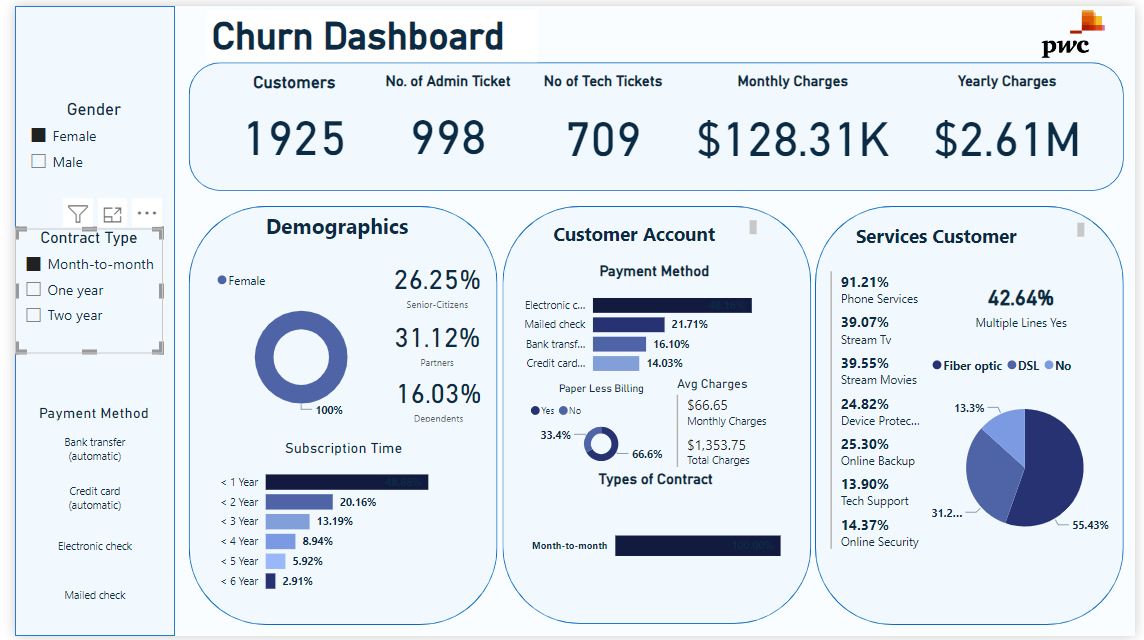

This screenshot's page, from the dashboard's own definition file:
{"tool":"powerbi","page":{"name":"Churn_Dashboard","canvas":[1280,720],"ordinal":2},"visuals":[{"type":"shape","box":[199.1,228.1,352.8,478.8],"z":0},{"type":"shape","box":[198.6,64.3,1068.6,147.1],"z":1000},{"type":"shape","box":[914.8,228.1,352.8,478.8],"z":2000},{"type":"shape","box":[0,0,182.9,720],"z":3000},{"type":"textbox","box":[220,4.3,377.1,60],"z":4000},{"type":"image","box":[1161.4,0,95.7,64.3],"z":5000},{"type":"card","title":"Customers","fields":{"Values":["CountNonNull(Churn.Customer_ID)"]},"box":[241.4,75.7,155.7,121.4],"z":6000},{"type":"card","title":"No. of Admin Ticket","fields":{"Values":["Sum(Churn.numAdminTickets)"]},"box":[417.6,75.7,155.7,121.4],"z":7000},{"type":"card","title":"No of Tech Tickets","fields":{"Values":["Sum(Churn.numTechTickets)"]},"box":[593.8,75.7,155.7,121.4],"z":8000},{"type":"card","title":"Monthly Charges","fields":{"Values":["Sum(Churn.MonthlyCharges)"]},"box":[770,75.6,237.8,121.1],"z":9000},{"type":"card","title":"Yearly Charges","fields":{"Values":["Sum(Churn.TotalCharges)"]},"box":[1028.2,75.6,210.4,121],"z":10000},{"type":"slicer","title":"Gender","fields":{"Values":["Churn.gender"]},"box":[6.3,107.1,168.9,89.5],"z":11000},{"type":"slicer","title":"Contract Type","fields":{"Values":["Churn.Contract"]},"box":[0,253.9,168.9,143.7],"z":12000},{"type":"slicer","title":"Payment Method","fields":{"Values":["Churn.PaymentMethod"]},"box":[6.3,454.9,168.9,250.8],"z":13000},{"type":"shape","box":[557,228.1,352.8,477.6],"z":14000},{"type":"donutChart","fields":{"Category":["Churn.gender"],"Y":["CountNonNull(Churn.gender)"]},"box":[225.6,292.5,203.1,187.5],"z":15000},{"type":"textbox","box":[281.4,230,187.1,50],"z":16000},{"type":"clusteredBarChart","title":"Subscription Time","fields":{"Y":["CountNonNull(Churn.Churn)"],"Category":["Churn.Loyalty"]},"box":[225.6,494,299.9,186.5],"z":17000},{"type":"card","fields":{"Values":["KPI_Churn.Senior-Citizens"]},"box":[423.1,282.5,120,68.8],"z":18000},{"type":"card","fields":{"Values":["KPI_Churn.Partners"]},"box":[423.1,349.4,120,66.9],"z":19000},{"type":"card","fields":{"Values":["KPI_Churn.Dependents"]},"box":[424.4,414.4,120,65.6],"z":20000},{"type":"textbox","box":[610,240,242.9,40],"z":21000},{"type":"clusteredBarChart","title":"Payment Method","fields":{"Category":["Churn.PaymentMethod"],"Y":["CountNonNull(Churn.PaymentMethod)"]},"box":[566,293,330,139],"z":22000},{"type":"donutChart","title":"Paper Less Billing","fields":{"Category":["Churn.PaperlessBilling"],"Y":["CountNonNull(Churn.PaperlessBilling)"]},"box":[584.1,430.6,171.8,100],"z":23000},{"type":"clusteredBarChart","title":"Types of Contract","fields":{"Category":["Churn.Contract"],"Y":["CountNonNull(Churn.Contract)"]},"box":[584.1,530.6,295.9,148.2],"z":24000},{"type":"multiRowCard","title":"Avg Charges","fields":{"Values":["Avg(Churn.MonthlyCharges)","Avg(Churn.TotalCharges)"]},"box":[751.1,423.3,144.4,112.2],"z":25000},{"type":"textbox","box":[955.7,242.9,271.4,40],"z":26000},{"type":"pieChart","fields":{"Category":["Churn.InternetService"],"Y":["CountNonNull(Churn.InternetService)"]},"box":[1043,390,223,246],"z":27000},{"type":"multiRowCard","fields":{"Values":["KPI_Churn.Phone Services","KPI_Churn.Stream Tv","KPI_Churn.Stream Movies","KPI_Churn.Device Protection","KPI_Churn.Online Backup","KPI_Churn.Tech Support","KPI_Churn.Online Security"]},"box":[927,298,116,338],"z":28000},{"type":"card","fields":{"Values":["KPI_Churn.Multiple Lines Yes"]},"box":[1043,298,214,85],"z":29000}]}

Visuals, with their boxes in screenshot pixels (x1, y1, x2, y2), scaled from the page's 1280x720 canvas onto the 1144x640 screenshot:
shape: [left=178, top=203, right=493, bottom=628]
shape: [left=177, top=57, right=1133, bottom=188]
shape: [left=818, top=203, right=1133, bottom=628]
shape: [left=0, top=0, right=163, bottom=639]
textbox: [left=197, top=4, right=534, bottom=57]
image: [left=1038, top=0, right=1124, bottom=57]
"Customers" card: [left=216, top=67, right=355, bottom=175]
"No. of Admin Ticket" card: [left=373, top=67, right=512, bottom=175]
"No of Tech Tickets" card: [left=531, top=67, right=670, bottom=175]
"Monthly Charges" card: [left=688, top=67, right=901, bottom=175]
"Yearly Charges" card: [left=919, top=67, right=1107, bottom=175]
"Gender" slicer: [left=6, top=95, right=157, bottom=175]
"Contract Type" slicer: [left=0, top=226, right=151, bottom=353]
"Payment Method" slicer: [left=6, top=404, right=157, bottom=627]
shape: [left=498, top=203, right=813, bottom=627]
donutChart - Churn.gender x CountNonNull(Churn.gender): [left=202, top=260, right=383, bottom=427]
textbox: [left=252, top=204, right=419, bottom=249]
"Subscription Time" clusteredBarChart: [left=202, top=439, right=470, bottom=605]
card - KPI_Churn.Senior-Citizens: [left=378, top=251, right=485, bottom=312]
card - KPI_Churn.Partners: [left=378, top=311, right=485, bottom=370]
card - KPI_Churn.Dependents: [left=379, top=368, right=487, bottom=427]
textbox: [left=545, top=213, right=762, bottom=249]
"Payment Method" clusteredBarChart: [left=506, top=260, right=801, bottom=384]
"Paper Less Billing" donutChart: [left=522, top=383, right=676, bottom=472]
"Types of Contract" clusteredBarChart: [left=522, top=472, right=786, bottom=603]
"Avg Charges" multiRowCard: [left=671, top=376, right=800, bottom=476]
textbox: [left=854, top=216, right=1097, bottom=251]
pieChart - Churn.InternetService x CountNonNull(Churn.InternetService): [left=932, top=347, right=1131, bottom=565]
multiRowCard - KPI_Churn.Phone Services x KPI_Churn.Stream Tv: [left=829, top=265, right=932, bottom=565]
card - KPI_Churn.Multiple Lines Yes: [left=932, top=265, right=1123, bottom=340]
